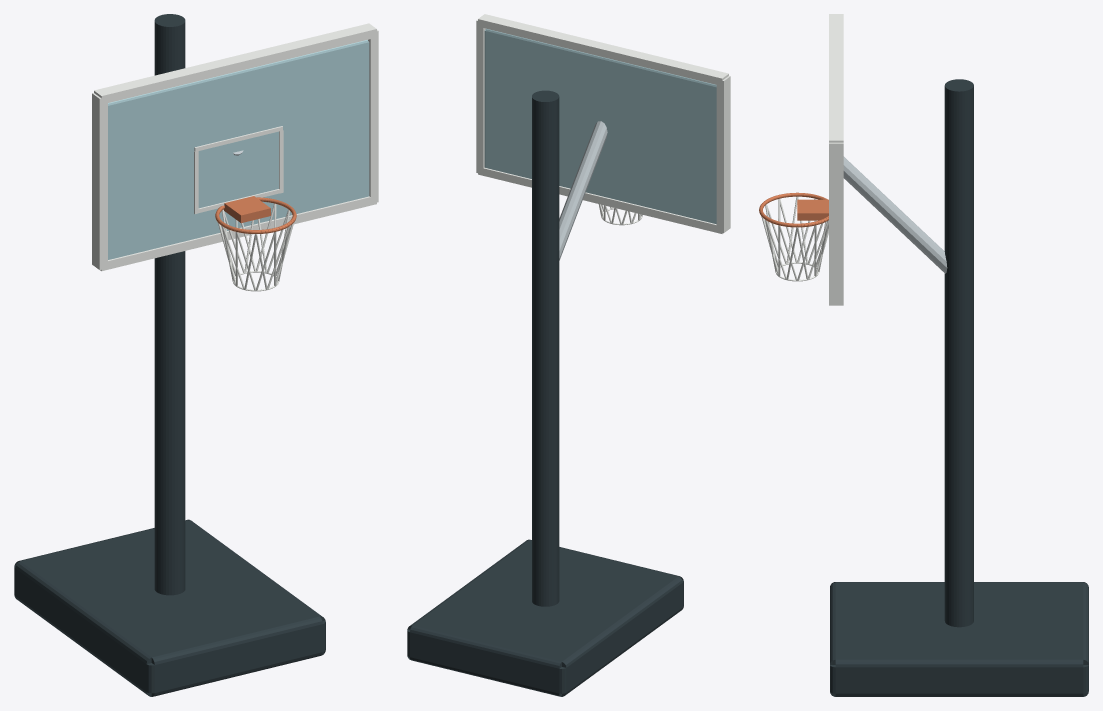
The model's file is basketball-club-and-street-courts-portable-hoop-df2b2c77.glb.
The picture shows the model from 3 angles, left to right: view 1: azimuth 30°, elevation 25°; view 2: azimuth 150°, elevation 25°; view 3: azimuth 270°, elevation 25°; orthographic projection. The views are drawn at different scales.
Parts seen in each view (by area): view 1: portable-hoop; view 2: portable-hoop; view 3: portable-hoop.
Boxes of the visible parts, <box> form: portable-hoop: <box>14,14,378,696</box>; portable-hoop: <box>407,14,730,696</box>; portable-hoop: <box>759,14,1088,696</box>.
Size of the model in its own units: 1.88 by 3.95 by 2.04.
